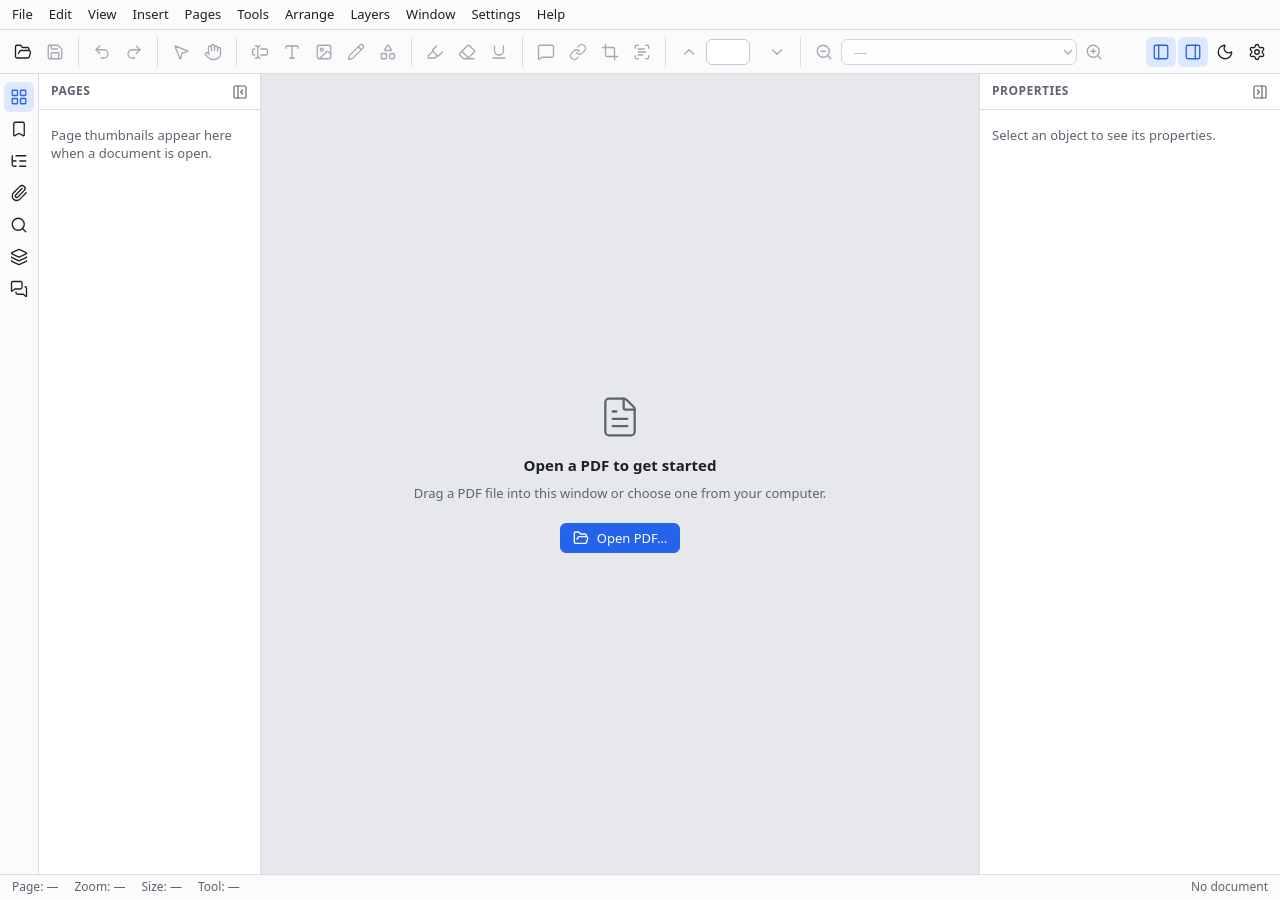
Test: application shell › switches language live from the settings dialog and persists it
Click the button named "Preferences…" at (1257, 52), box [1242,36,1272,66]
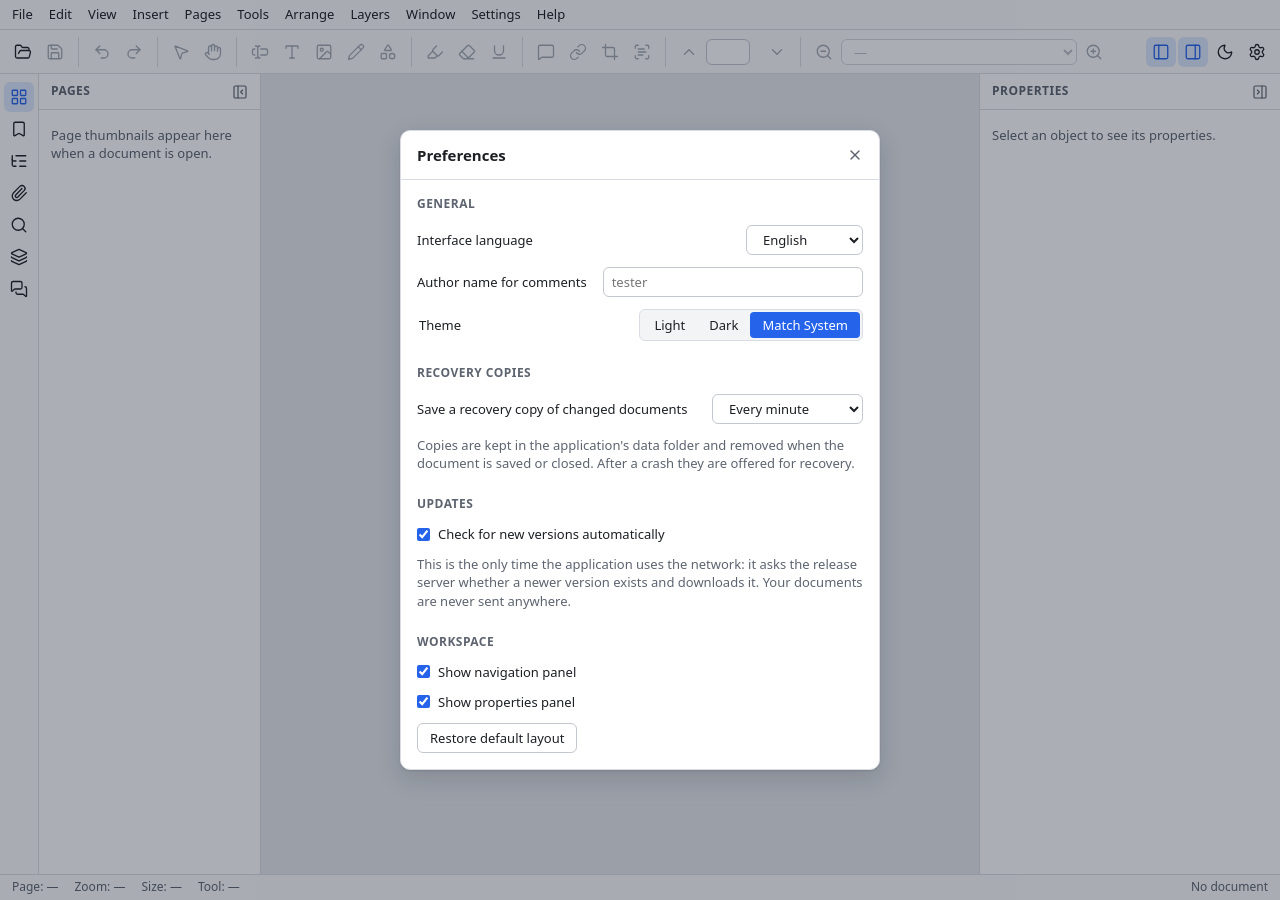
Select "Русский" in the dropdown labelled "Interface language" at (804, 240), box [746,225,863,255]
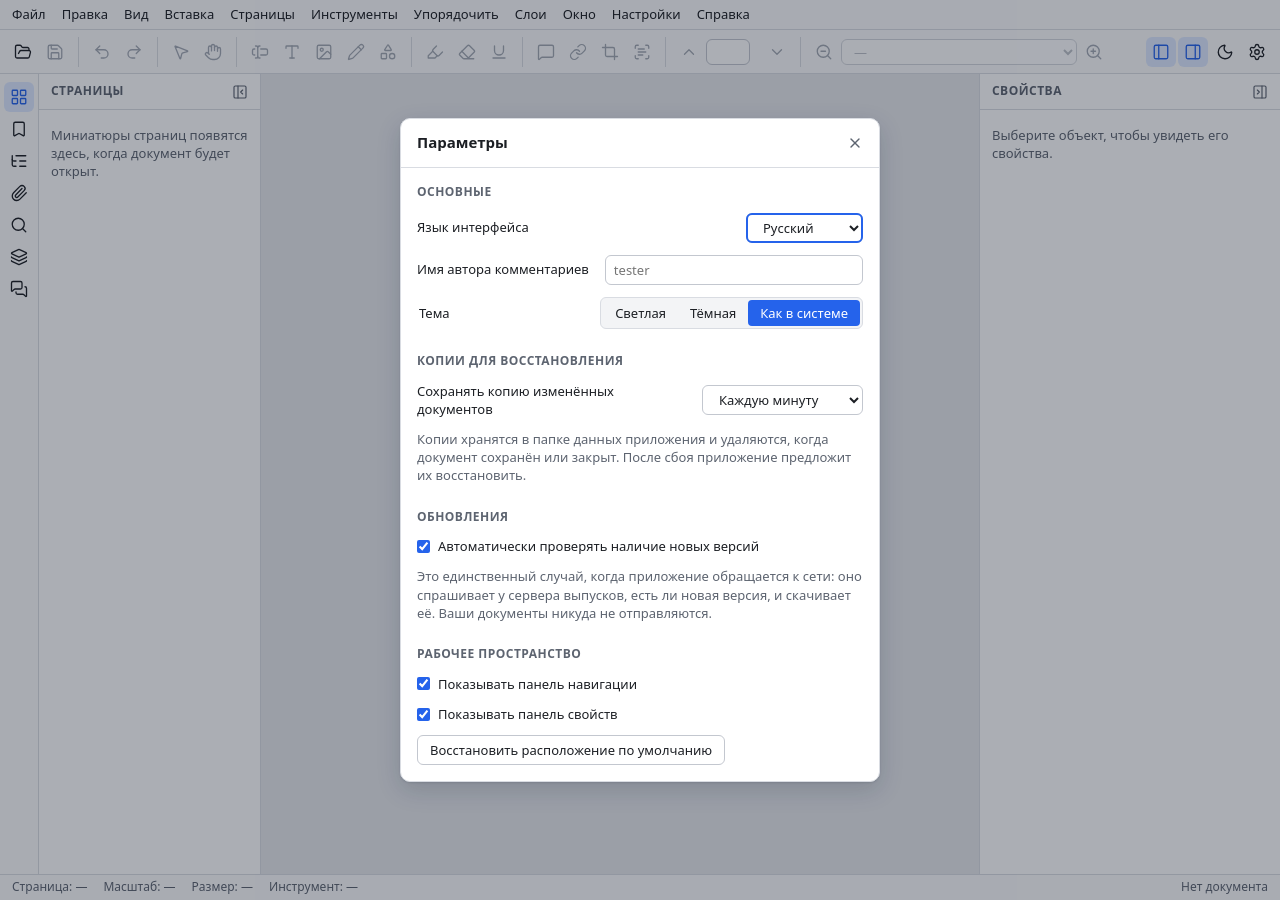
expect the dialog "Параметры" is shown: met, box [400,118,880,782]
expect the heading "Откройте PDF, чтобы начать" is shown: met, box [508,446,732,467]
Press Escape
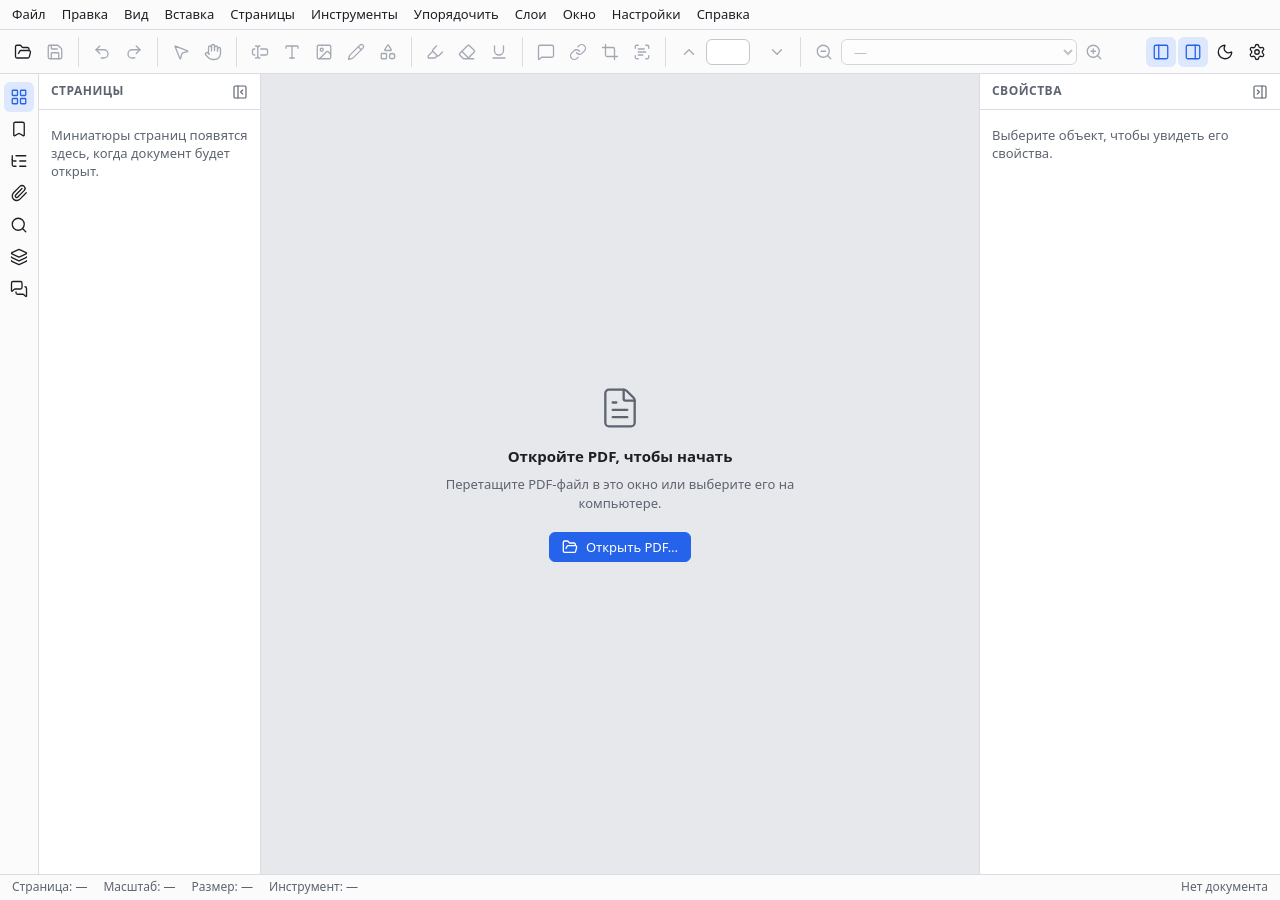
expect the dialog is gone: met
